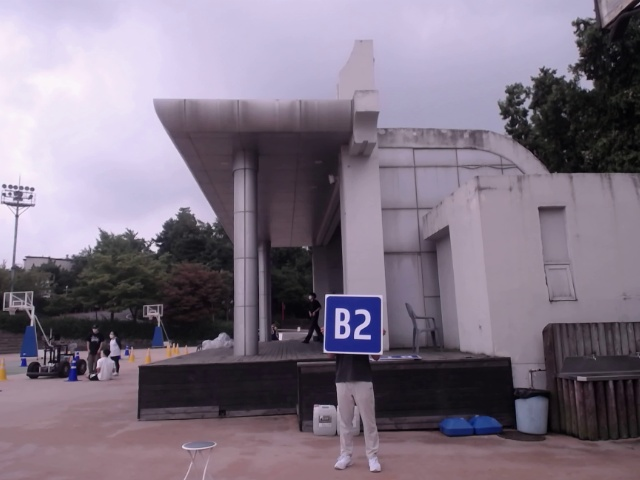delivery_b2: (325, 295, 382, 353)
